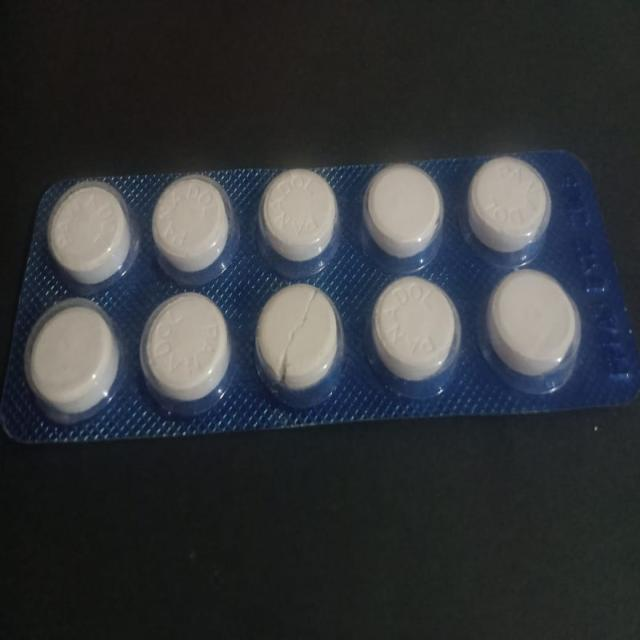defect: (250, 280, 350, 410)
